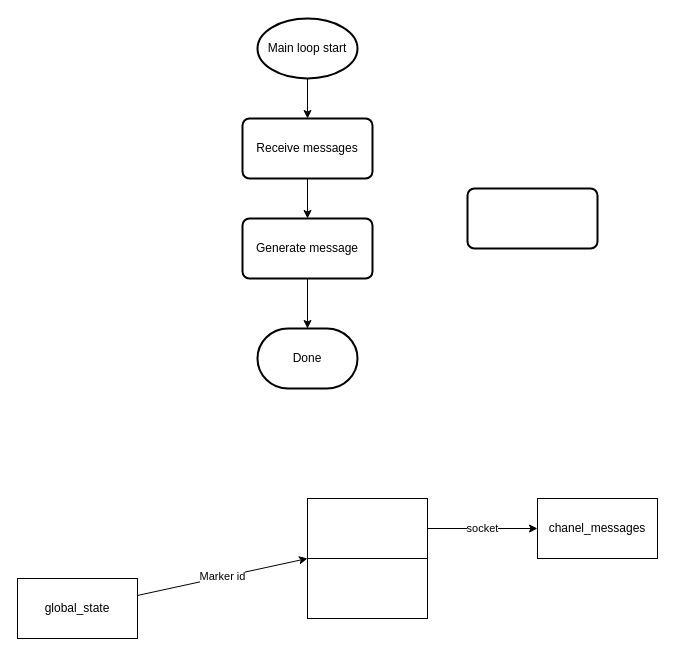
This 675x656 diagram has some shape labels left out. The shapes that lost their labels are listed below. From the top down, each one's centre as x and y in pixels, then its label:
At [532,218]: "Check".
At [367,528]: "channel_states".
At [367,588]: "own_state(amount)".
